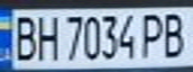0: (81, 12, 103, 61)
3: (100, 11, 121, 61)
4: (118, 11, 142, 60)
7: (60, 11, 84, 61)
B: (157, 9, 193, 58), (9, 12, 39, 62)
H: (33, 11, 60, 62)
P: (139, 10, 169, 60)
